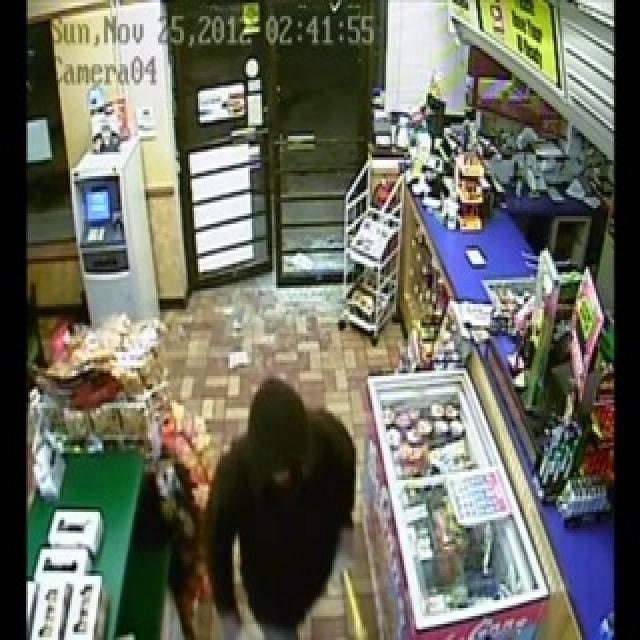thief: (207, 376, 360, 640)
